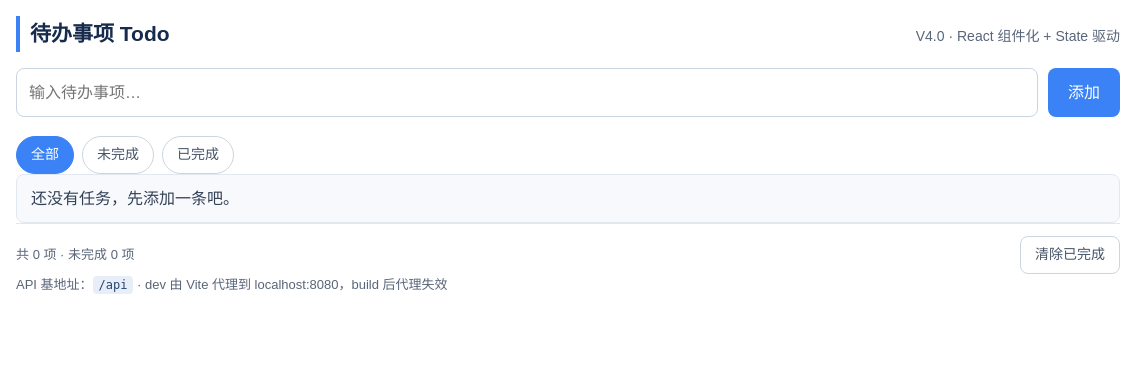
行为5：筛选按钮只改渲染结果，不改 todos 本身
Type "任务A" into the field named "待办事项内容" at (527, 92), box [16,68,1038,117]
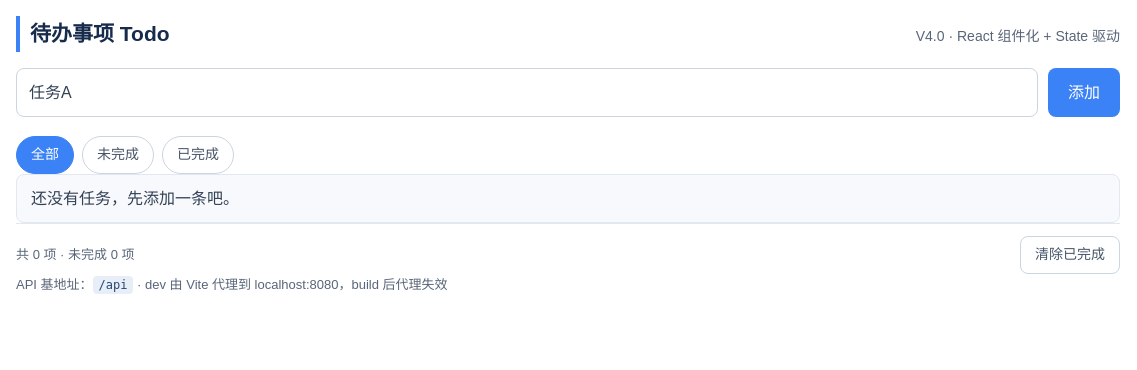
Click the button "添加" at (1084, 92), box [1048,68,1120,117]
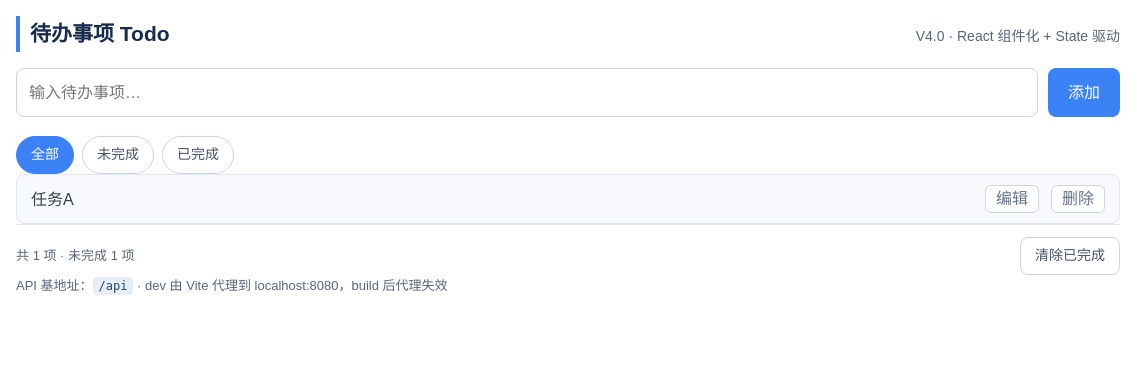
Type "任务B" into the field named "待办事项内容" at (527, 92), box [16,68,1038,117]
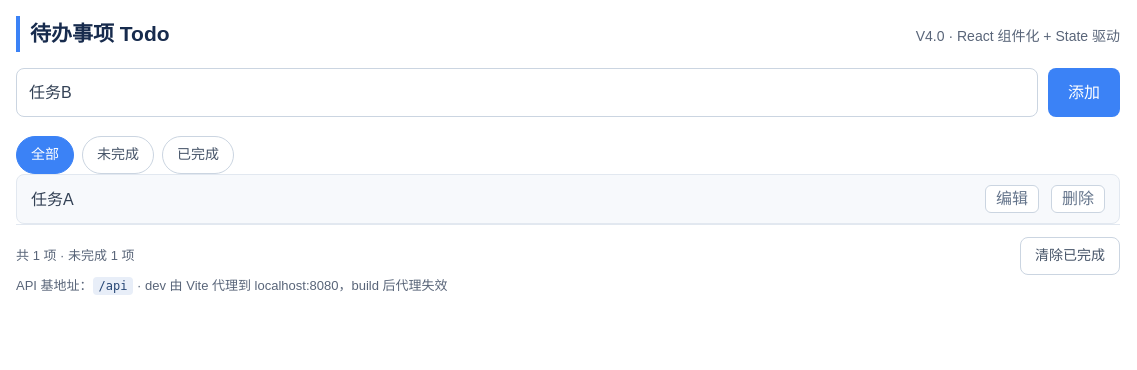
Click the button "添加" at (1084, 92), box [1048,68,1120,117]
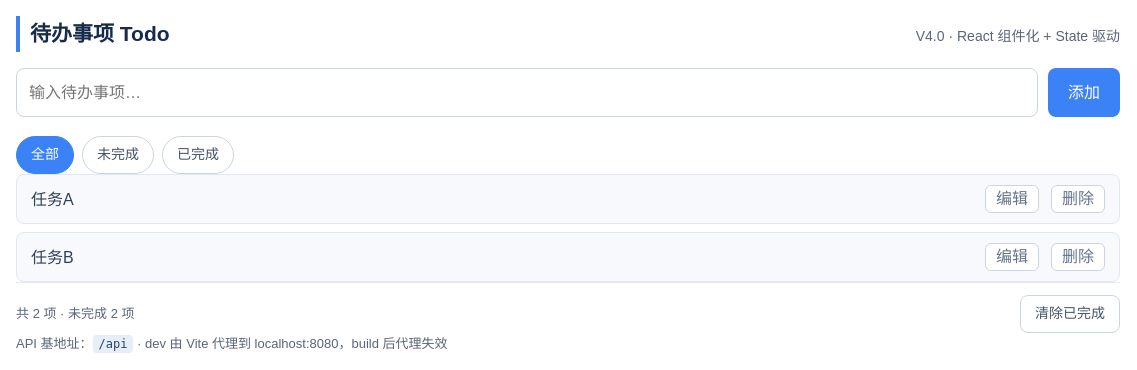
Click the text "任务A" at (52, 199), box [31,191,74,208]
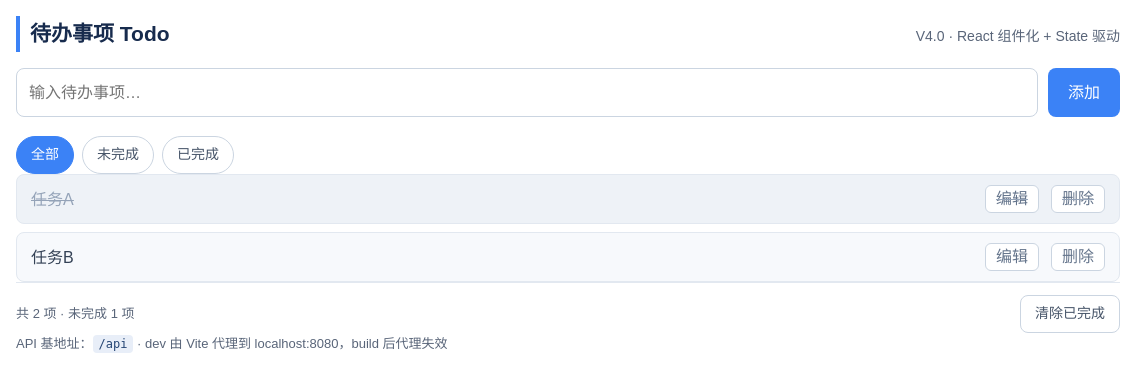
Click the button "未完成" at (118, 155), box [82,136,154,174]
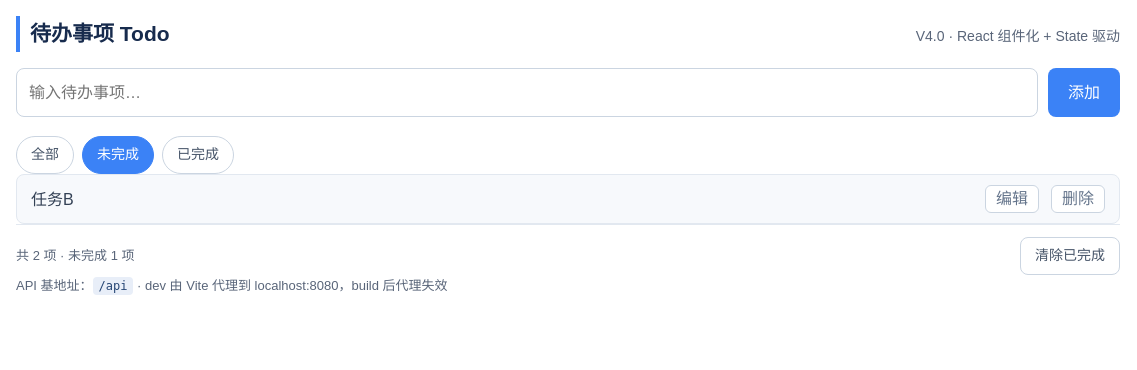
Expected: the text "任务B" is shown, [31,191,74,208]
Expected: the text "共 2 项 · 未完成 1 项" is shown, [16,245,134,267]
Expected: the text "任务A" is gone
